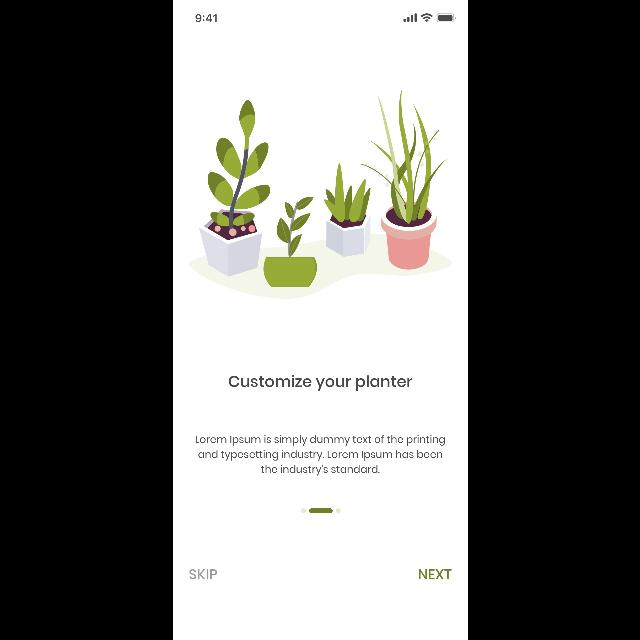image: (188, 90, 452, 300)
pageindicator: (300, 508, 340, 514)
text: (196, 434, 444, 476), (228, 374, 412, 392), (418, 568, 452, 580), (188, 568, 216, 580)
uppertaskbar: (194, 14, 456, 22)
